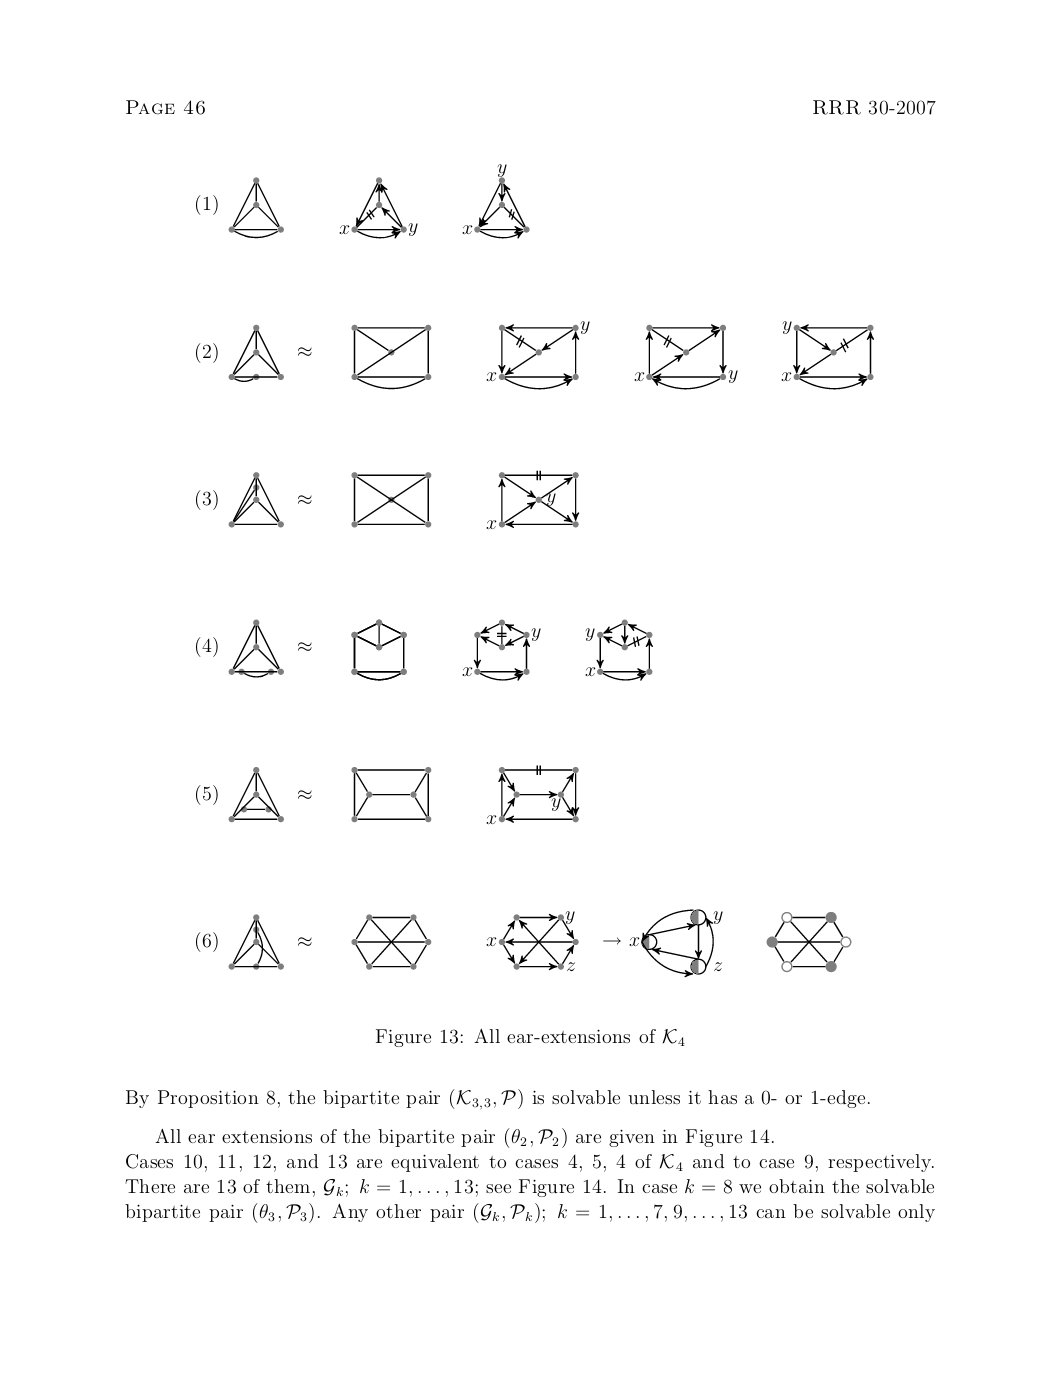figure: (196, 320, 873, 390), (196, 908, 851, 978), (196, 619, 652, 681), (196, 162, 529, 238), (196, 469, 580, 530), (196, 765, 580, 825)
